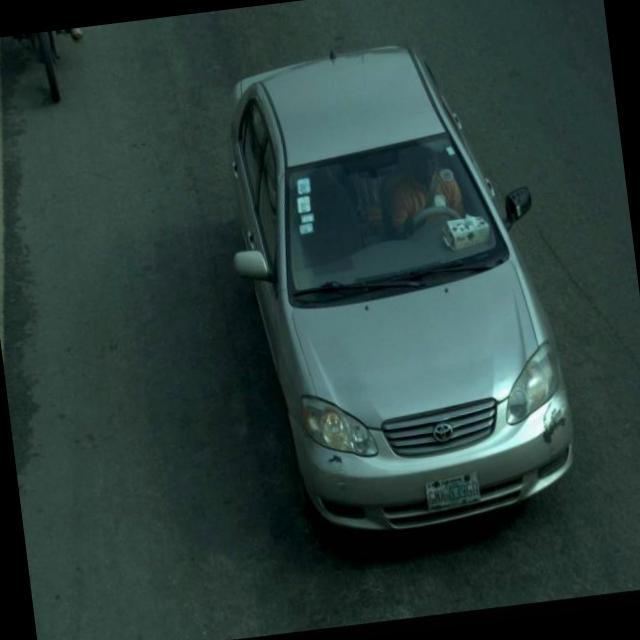person_with_seatbelt: (376, 130, 469, 247)
